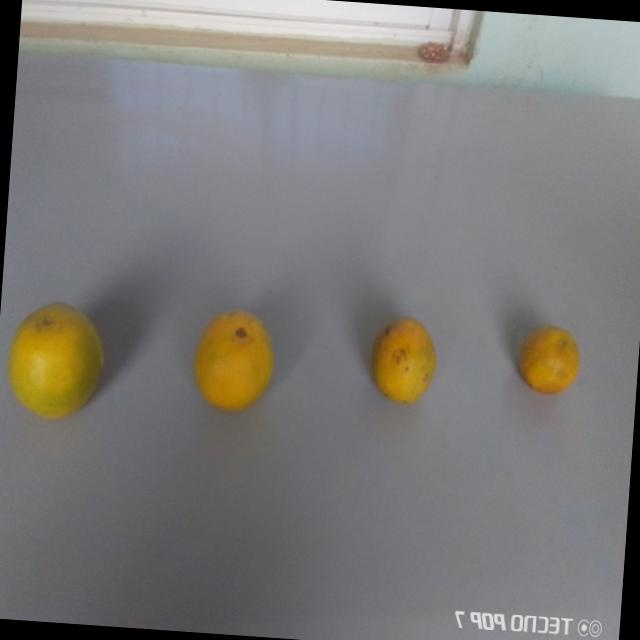agrume: (0, 296, 111, 424), (186, 293, 282, 423), (367, 308, 445, 407), (511, 316, 587, 400)
